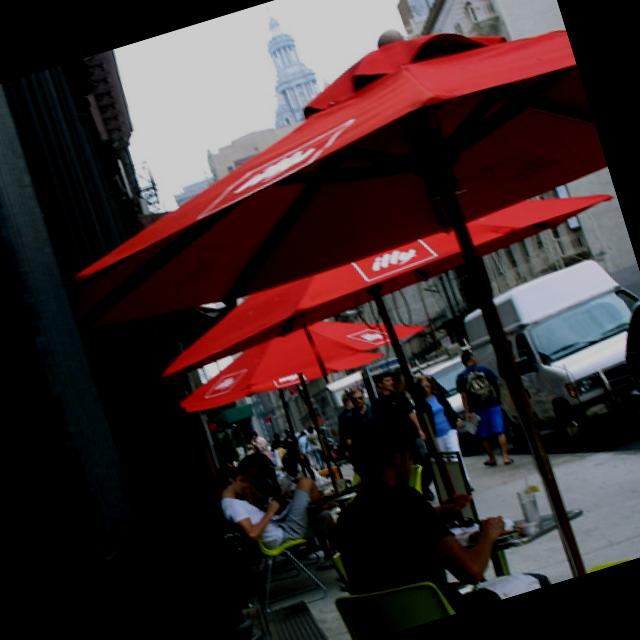Vehicle: (455, 244, 640, 477), (455, 252, 640, 464), (409, 348, 485, 448), (308, 366, 380, 448), (602, 296, 640, 448)
